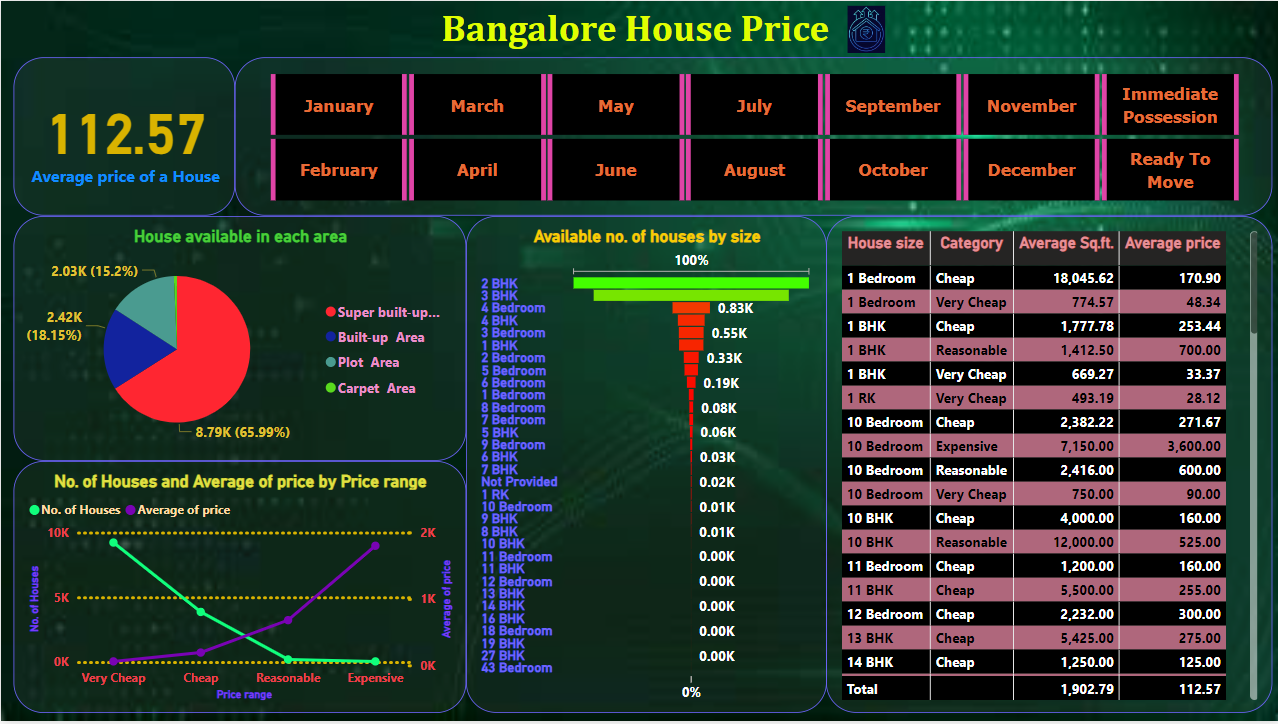

This screenshot's page, from the dashboard's own definition file:
{"tool":"powerbi","page":{"name":"Bangalore House Price","canvas":[1280,720],"ordinal":0},"visuals":[{"type":"card","fields":{"Values":["Avg(bengaluru_house_prices.price)"]},"box":[12.1,56.7,222,158],"z":0},{"type":"slicer","fields":{"Values":["bengaluru_house_prices.Available Month"]},"box":[234,56.7,1037.5,158],"z":1000},{"type":"lineChart","fields":{"Category":["bengaluru_house_prices.Price range"],"Y":["CountNonNull(bengaluru_house_prices.price)"],"Y2":["Avg(bengaluru_house_prices.price)"]},"box":[12.1,459.7,452.4,252.1],"z":2000},{"type":"pieChart","title":"House available in each area","fields":{"Y":["CountNonNull(bengaluru_house_prices.area_type)"],"Category":["bengaluru_house_prices.area_type"]},"box":[12.1,214.7,452.4,244.9],"z":3000},{"type":"funnel","fields":{"Category":["bengaluru_house_prices.size"],"Y":["CountNonNull(bengaluru_house_prices.area_type)"]},"box":[464.5,214.7,360.7,497.1],"z":4000},{"type":"tableEx","fields":{"Values":["bengaluru_house_prices.size","bengaluru_house_prices.Price range","Avg(bengaluru_house_prices.Total Sq.ft.)","Avg(bengaluru_house_prices.price)"]},"box":[825.2,214.7,446.4,497.1],"z":5000},{"type":"textbox","box":[12.1,0,1243.8,56.7],"z":6000},{"type":"image","box":[833.7,0,62.7,56.7],"z":7001}]}

Visuals, with their boxes in screenshot pixels (x1, y1, x2, y2), scaled from the page's 1280x720 canvas onto the 1278x724 screenshot:
card - Avg(bengaluru_house_prices.price): <box>12,57,234,216</box>
slicer - bengaluru_house_prices.Available Month: <box>234,57,1270,216</box>
lineChart - bengaluru_house_prices.Price range x CountNonNull(bengaluru_house_prices.price): <box>12,462,464,716</box>
"House available in each area" pieChart: <box>12,216,464,462</box>
funnel - bengaluru_house_prices.size x CountNonNull(bengaluru_house_prices.area_type): <box>464,216,824,716</box>
tableEx - bengaluru_house_prices.size x bengaluru_house_prices.Price range: <box>824,216,1270,716</box>
textbox: <box>12,0,1254,57</box>
image: <box>832,0,895,57</box>
